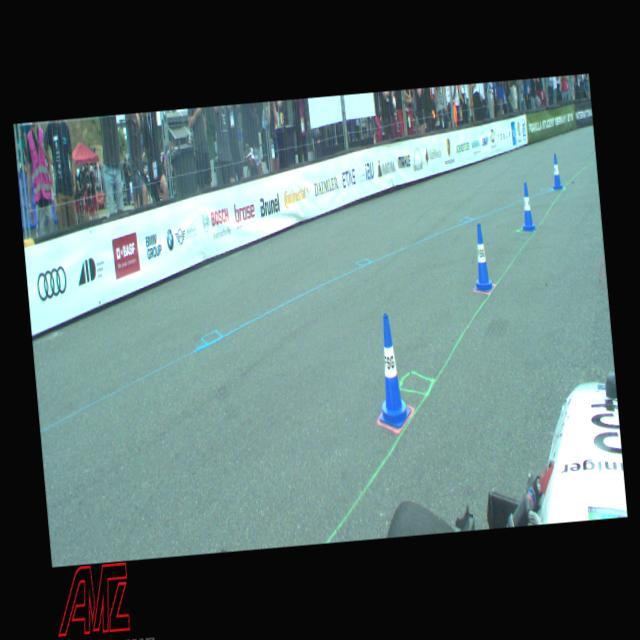blue_cone: (369, 312, 412, 428), (468, 222, 494, 292), (518, 180, 536, 232), (549, 152, 563, 190)
